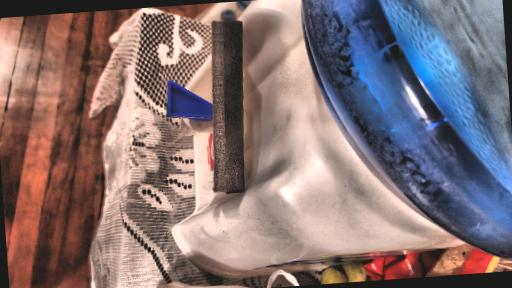borrador: (212, 19, 245, 193)
